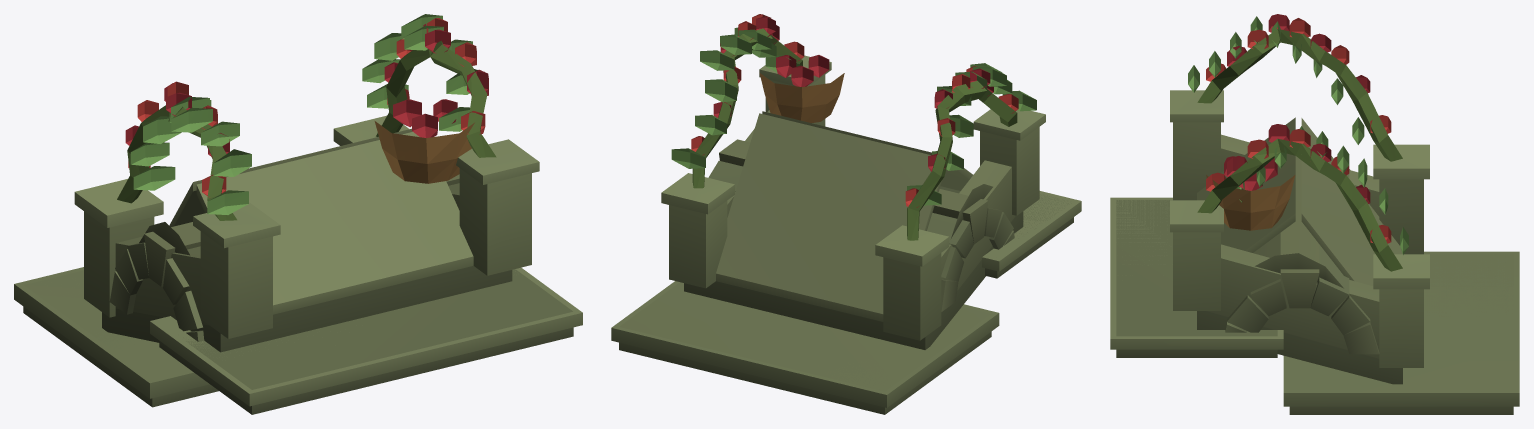
Rendered from shabari.glb.
The picture shows the model from 3 angles, left to right: view 1: azimuth 30°, elevation 25°; view 2: azimuth 150°, elevation 25°; view 3: azimuth 270°, elevation 25°; orthographic projection. The views are drawn at different scales.
Visible parts, largest first — view 1: bridge-shabari; view 2: bridge-shabari; view 3: bridge-shabari.
Part boxes in pixels (box(x1,y1,x2,y2)): bridge-shabari: box(14, 14, 582, 414); bridge-shabari: box(611, 14, 1081, 414); bridge-shabari: box(1110, 14, 1519, 414).
Size of the model in its own units: 0.4375 by 0.3945 by 0.5352.
